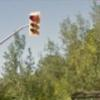traffic lights: (30, 12, 42, 36)
